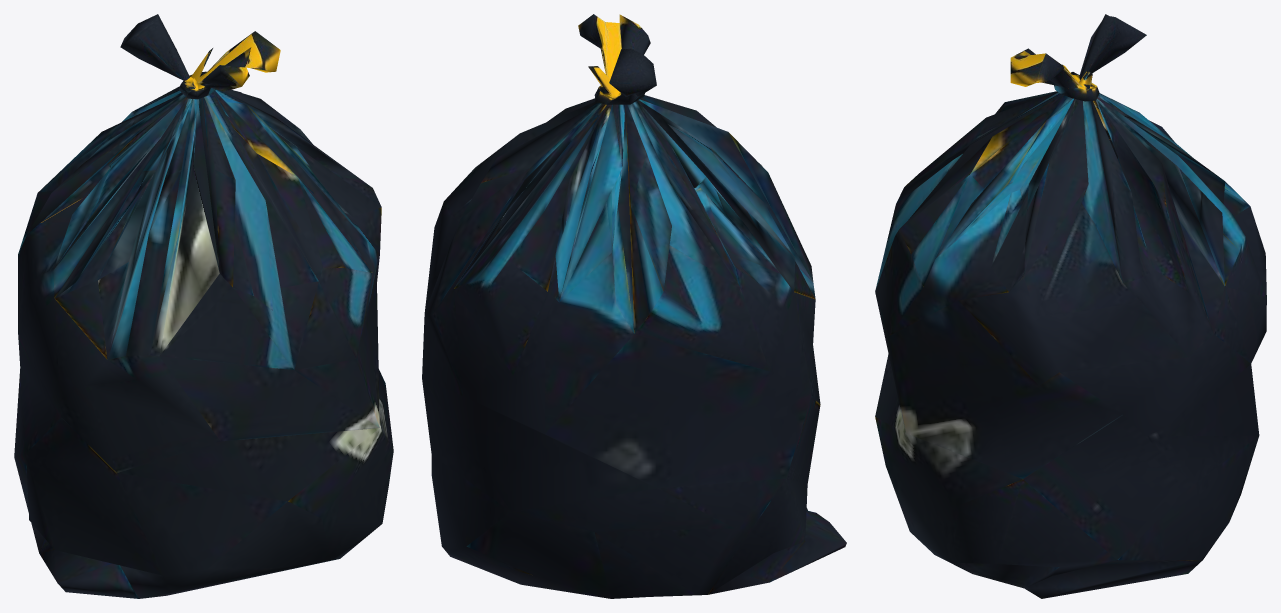
The model's file is trash_bag.glb.
3 views of the same model, side by side, from view 1: azimuth 30°, elevation 25°; view 2: azimuth 150°, elevation 25°; view 3: azimuth 270°, elevation 25° (orthographic). The views are drawn at different scales.
Visible parts, largest first — view 1: Mesh_0; view 2: Mesh_0; view 3: Mesh_0.
Part boxes in pixels (x1,y1,x2,y2): Mesh_0: (14,14,393,598); Mesh_0: (422,14,846,598); Mesh_0: (875,14,1266,598).
Size of the model in its own units: 0.5134 by 0.7 by 0.5023.
Materials: 1 (1 with a texture image).
